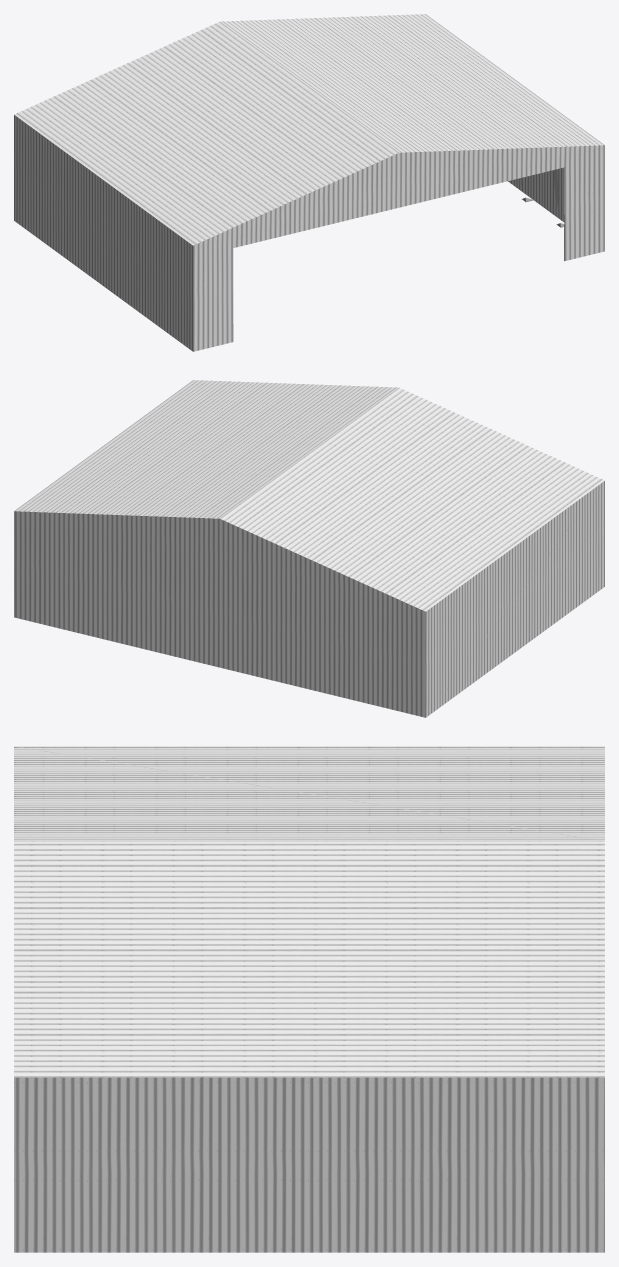
Rendered from ChimNirLargeHangar2_LOD2.gltf.
The picture shows the model from 3 angles, top to bottom: view 1: azimuth 30°, elevation 25°; view 2: azimuth 150°, elevation 25°; view 3: azimuth 270°, elevation 25°; orthographic projection. The views are drawn at different scales.
Visible parts, largest first — view 1: node10, node9; view 2: node10, node9; view 3: node10, node9.
Boxes of the visible parts, x1,y1,x2,y2 form: node10: (14, 14, 604, 245); node9: (14, 115, 604, 351); node10: (14, 380, 604, 611); node9: (14, 481, 604, 717); node10: (14, 746, 604, 1077); node9: (14, 1077, 604, 1252).
Size of the model in its own units: 19.9 by 6.88 by 15.
